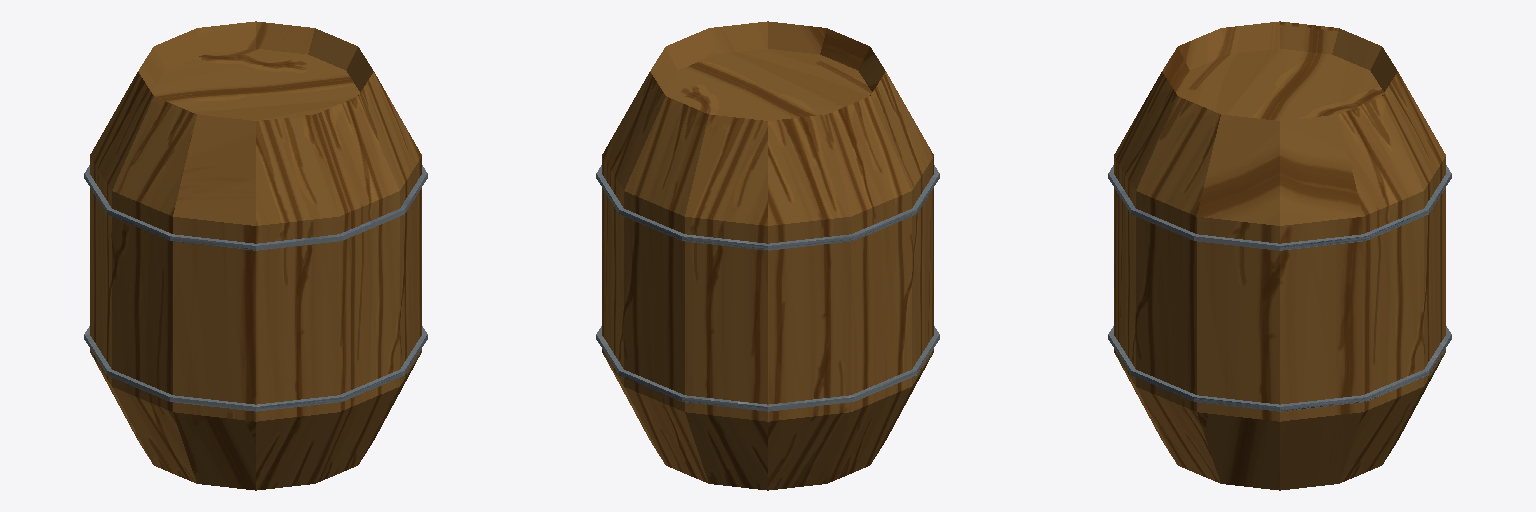
3 renders of one model, left to right at view 1: azimuth 30°, elevation 25°; view 2: azimuth 150°, elevation 25°; view 3: azimuth 270°, elevation 25°, orthographic.
Visible parts, largest first — view 1: Cylinder.005_Cylinder.004; view 2: Cylinder.005_Cylinder.004; view 3: Cylinder.005_Cylinder.004.
Boxes of the visible parts, x1=… form: Cylinder.005_Cylinder.004: x1=84, y1=21, x2=427, y2=490; Cylinder.005_Cylinder.004: x1=596, y1=21, x2=939, y2=490; Cylinder.005_Cylinder.004: x1=1108, y1=21, x2=1451, y2=490.
Size of the model in its own units: 0.7095 by 0.8424 by 0.7095.
1 materials, 1 textured.